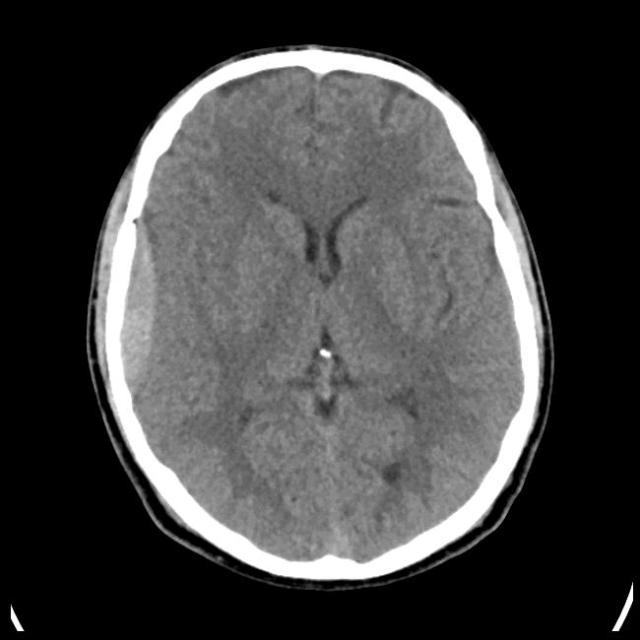lesion: (95, 47, 550, 582)
